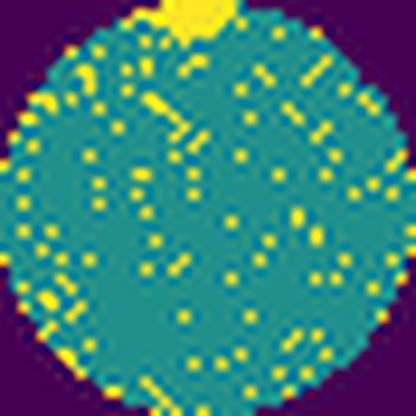Edge-Loc: (113, 0, 245, 46)
